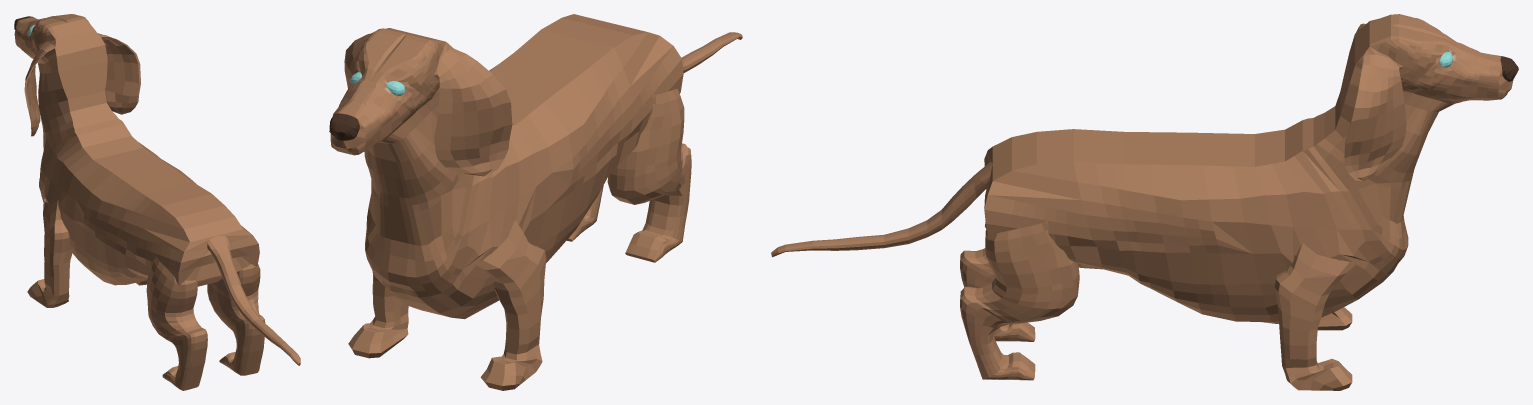
3 views of the same model, side by side, from view 1: azimuth 30°, elevation 25°; view 2: azimuth 150°, elevation 25°; view 3: azimuth 270°, elevation 25° (orthographic). The views are drawn at different scales.
Parts seen in each view (by area): view 1: Body; view 2: Body; view 3: Body.
Boxes of the visible parts, left/top/right/bottom form: Body: left=14, top=14, right=300, bottom=390; Body: left=329, top=14, right=742, bottom=390; Body: left=771, top=14, right=1518, bottom=390.
Bounding box in the file's own units: 2.09 × 4.26 × 8.74.
